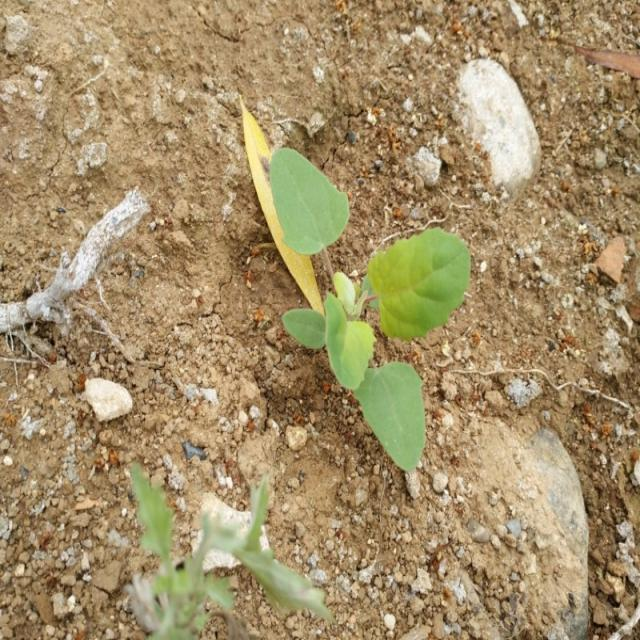ca: (272, 148, 472, 470)
